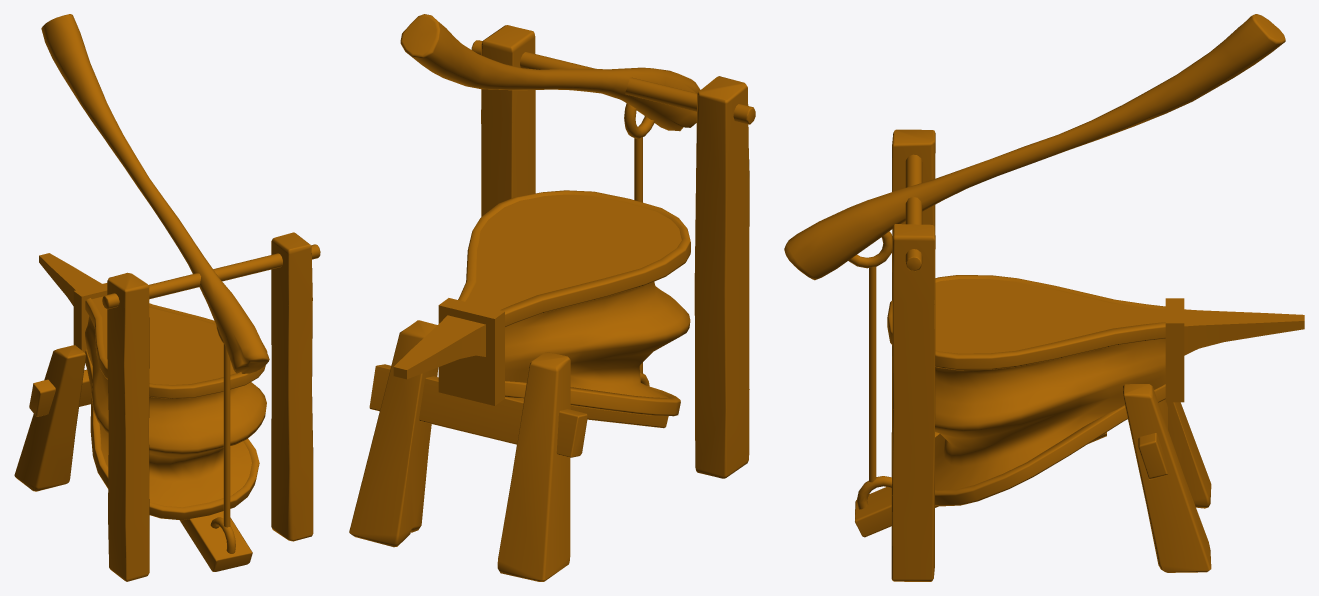
File: Mod_forgeBellows_LODs.fbx
3 renders of one model, left to right at view 1: azimuth 30°, elevation 25°; view 2: azimuth 150°, elevation 25°; view 3: azimuth 270°, elevation 25°, orthographic. The views are drawn at different scales.
Parts seen in each view (by area): view 1: forgeBellows_LOD0; view 2: forgeBellows_LOD0; view 3: forgeBellows_LOD0.
Boxes of the visible parts, x1,y1,x2,y2 form: forgeBellows_LOD0: [14, 14, 320, 581]; forgeBellows_LOD0: [349, 14, 755, 581]; forgeBellows_LOD0: [784, 14, 1304, 581].
Size of the model in its own units: 66.42 by 130 by 119.
